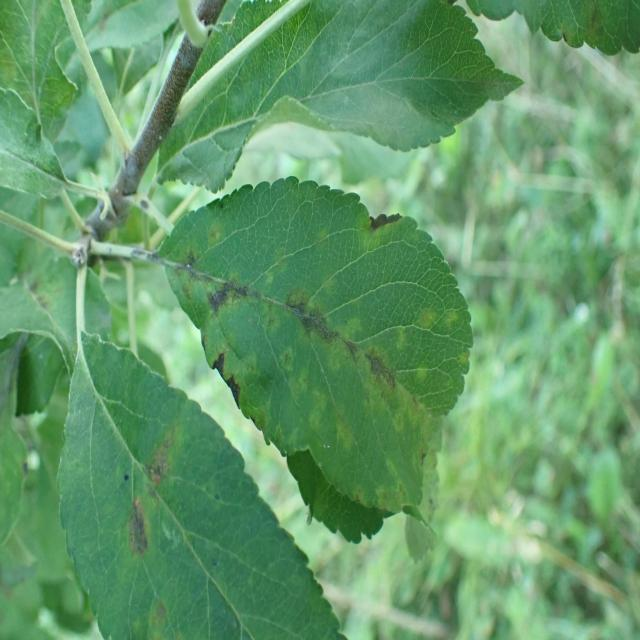scab: (167, 228, 467, 446), (123, 432, 185, 638)
